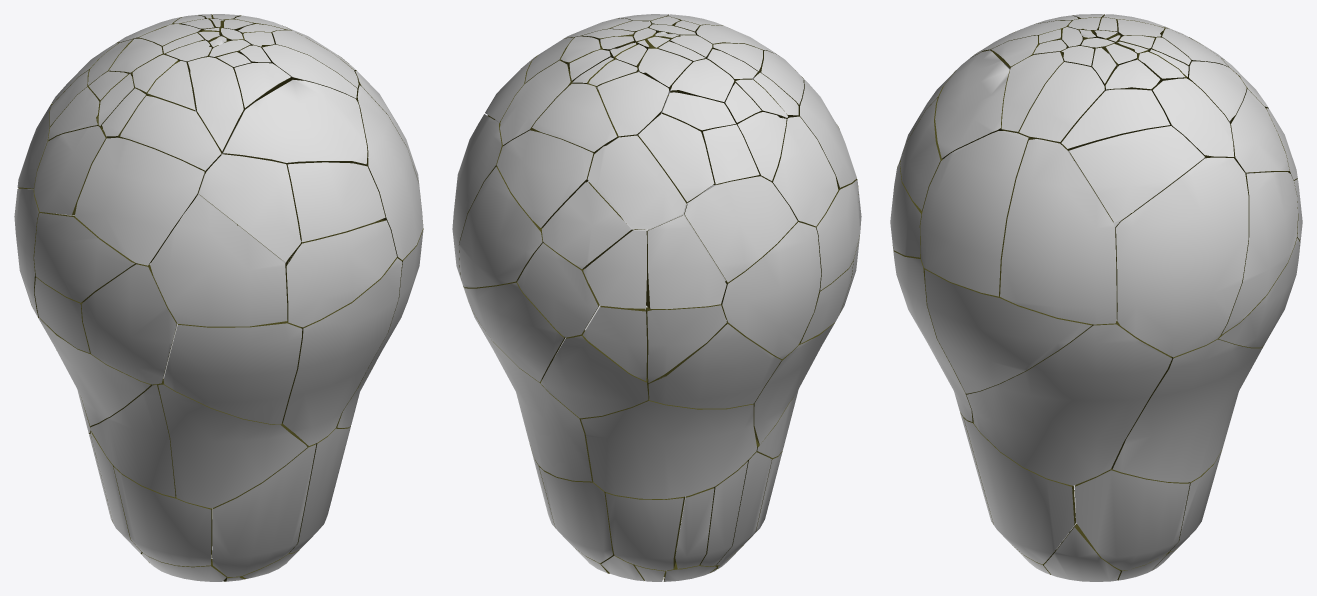
File: Lightbulb_CellFracture.glb
3 views of the same model, side by side, from view 1: azimuth 30°, elevation 25°; view 2: azimuth 150°, elevation 25°; view 3: azimuth 270°, elevation 25° (orthographic).
Parts seen in each view (by area): view 1: lightbulb_cell.057, lightbulb_cell.092, lightbulb_cell.014, lightbulb_cell.071, lightbulb_cell.012, lightbulb_cell.006, lightbulb_cell.018, lightbulb_cell.045, lightbulb_cell.019, lightbulb_cell.040, lightbulb_cell.070, lightbulb_cell.054 (+29 smaller); view 2: lightbulb_cell.023, lightbulb_cell.073, lightbulb_cell.029, lightbulb_cell.063, lightbulb_cell.035, lightbulb_cell.065, lightbulb_cell.037, lightbulb_cell.055, lightbulb_cell.067, lightbulb_cell.015, lightbulb_cell.098, lightbulb_cell.056 (+41 smaller); view 3: lightbulb_cell.079, lightbulb_cell.013, lightbulb_cell.024, lightbulb_cell.067, lightbulb_cell.066, lightbulb_cell.061, lightbulb_cell.094, lightbulb_cell.003, lightbulb_cell.026, lightbulb_cell.035, lightbulb_cell.006, lightbulb_cell.038 (+19 smaller).
Part boxes in pixels (bbox=[...]): lightbulb_cell.057: bbox=[150, 195, 287, 326]; lightbulb_cell.092: bbox=[163, 320, 302, 424]; lightbulb_cell.014: bbox=[75, 137, 204, 265]; lightbulb_cell.071: bbox=[158, 378, 307, 508]; lightbulb_cell.012: bbox=[282, 258, 402, 445]; lightbulb_cell.006: bbox=[223, 80, 367, 165]; lightbulb_cell.018: bbox=[212, 444, 316, 576]; lightbulb_cell.045: bbox=[81, 263, 177, 384]; lightbulb_cell.019: bbox=[285, 219, 396, 327]; lightbulb_cell.040: bbox=[199, 154, 300, 262]; lightbulb_cell.070: bbox=[287, 162, 385, 242]; lightbulb_cell.054: bbox=[113, 466, 212, 566]; lightbulb_cell.023: bbox=[581, 396, 756, 499]; lightbulb_cell.073: bbox=[721, 222, 821, 359]; lightbulb_cell.029: bbox=[684, 176, 797, 282]; lightbulb_cell.063: bbox=[648, 321, 781, 408]; lightbulb_cell.035: bbox=[459, 166, 543, 287]; lightbulb_cell.065: bbox=[496, 130, 593, 227]; lightbulb_cell.037: bbox=[587, 135, 685, 229]; lightbulb_cell.055: bbox=[646, 215, 726, 309]; lightbulb_cell.067: bbox=[463, 286, 592, 481]; lightbulb_cell.015: bbox=[540, 330, 648, 418]; lightbulb_cell.098: bbox=[464, 281, 565, 382]; lightbulb_cell.056: bbox=[605, 492, 685, 570]; lightbulb_cell.079: bbox=[1115, 157, 1248, 357]; lightbulb_cell.013: bbox=[966, 320, 1171, 485]; lightbulb_cell.024: bbox=[1000, 139, 1116, 324]; lightbulb_cell.067: bbox=[1111, 338, 1262, 482]; lightbulb_cell.066: bbox=[920, 131, 1030, 296]; lightbulb_cell.061: bbox=[924, 269, 1092, 393]; lightbulb_cell.094: bbox=[1074, 468, 1189, 570]; lightbulb_cell.003: bbox=[964, 417, 1075, 564]; lightbulb_cell.026: bbox=[1069, 126, 1204, 222]; lightbulb_cell.035: bbox=[1221, 172, 1297, 334]; lightbulb_cell.006: bbox=[935, 50, 1009, 158]; lightbulb_cell.038: bbox=[1019, 62, 1104, 144].
Bounding box in the file's own units: 0.6521 × 0.931 × 0.6622.
